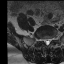CCS_normal: (46, 36, 48, 48)
LFS_normal: (50, 35, 53, 42)
LLS_normal: (48, 36, 50, 46)
RFS_stenosis: (41, 36, 44, 43)
RLS_normal: (44, 36, 46, 45)
